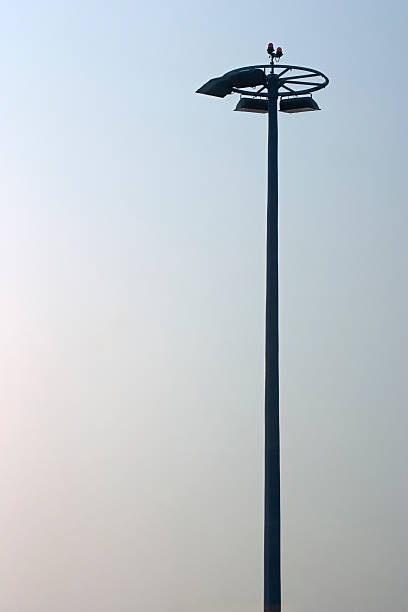light_pole: (260, 120, 286, 612)
